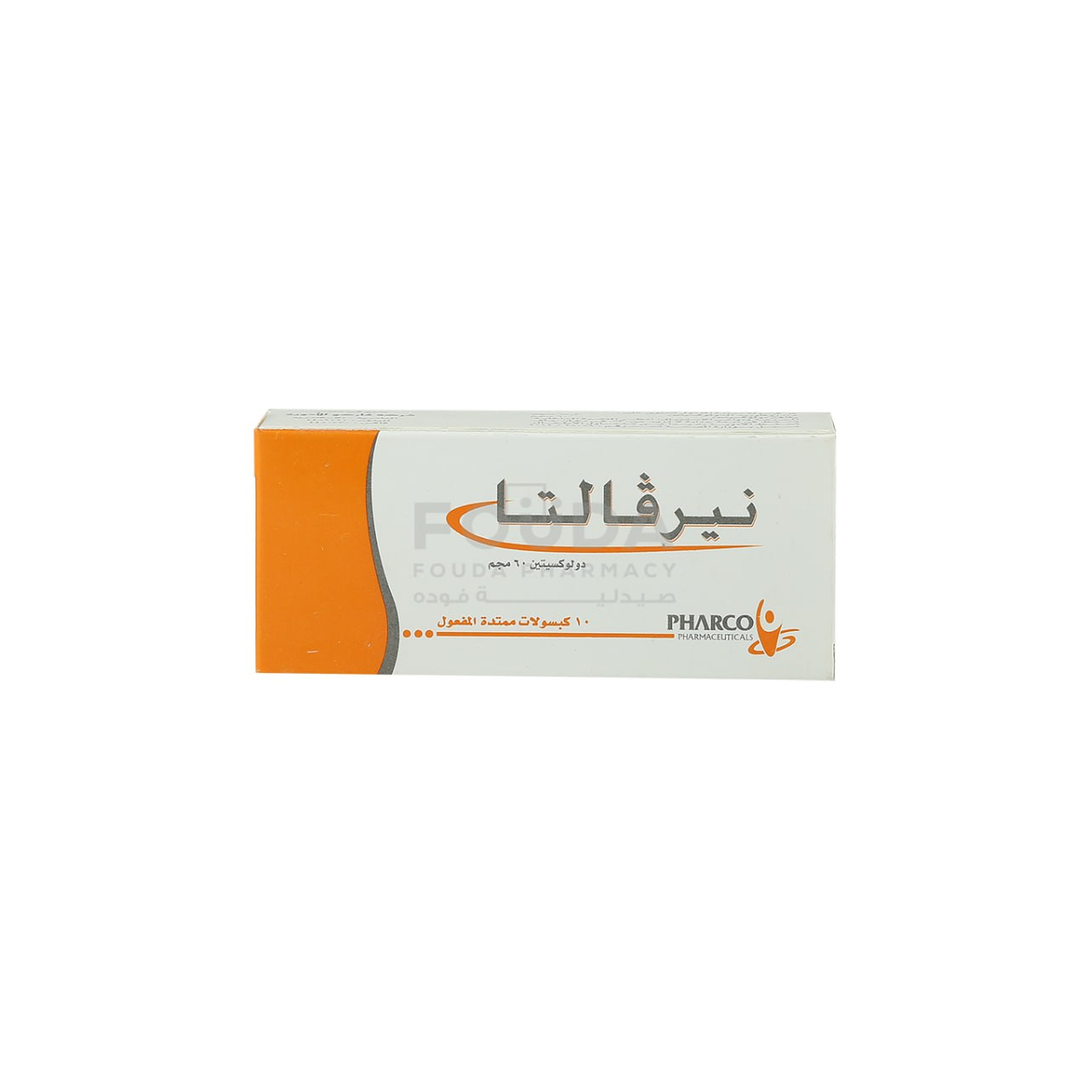Medicine: (227, 394, 851, 700)
